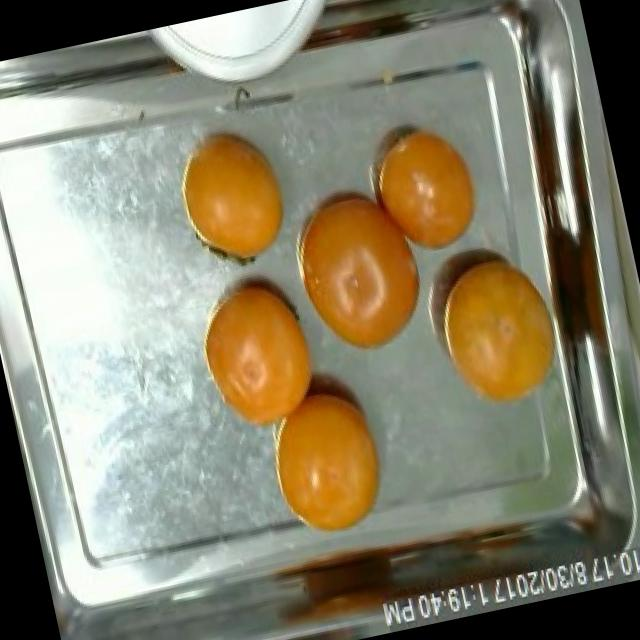Fruit: (272, 150, 446, 378), (181, 256, 337, 456), (250, 364, 410, 556), (416, 236, 573, 429), (157, 103, 313, 284), (349, 103, 499, 274)
